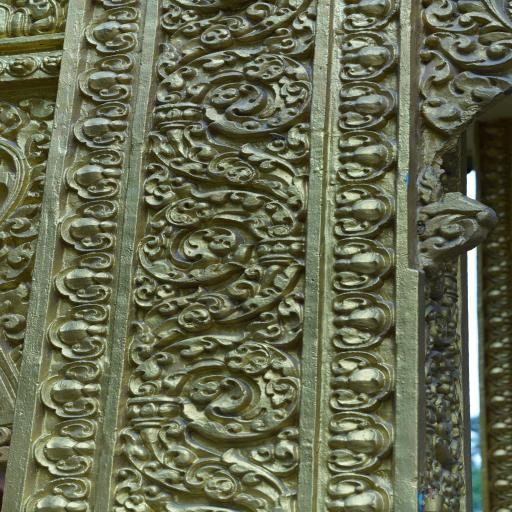la: (115, 340, 302, 510), (152, 48, 318, 196), (144, 193, 280, 329), (159, 0, 314, 53), (414, 50, 512, 129), (318, 411, 404, 472), (24, 412, 106, 474), (34, 359, 112, 420), (324, 349, 394, 412), (324, 292, 398, 350), (326, 180, 394, 240), (62, 148, 136, 200), (47, 302, 110, 363), (328, 234, 392, 294), (427, 25, 512, 69), (59, 199, 123, 254), (81, 0, 144, 54), (334, 80, 397, 131), (334, 128, 392, 182), (52, 252, 112, 304), (319, 468, 393, 510), (337, 30, 394, 83), (72, 103, 131, 151), (80, 57, 136, 103), (422, 0, 486, 35), (339, 0, 402, 35)
